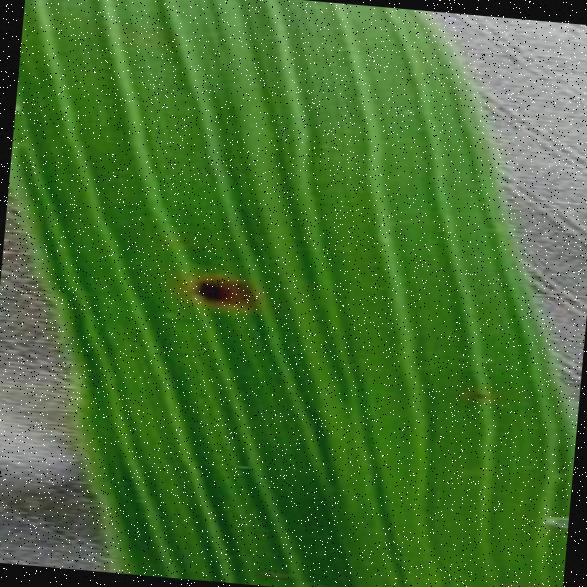Brown_Spot: (174, 258, 274, 317), (468, 384, 491, 404), (503, 575, 536, 587)
